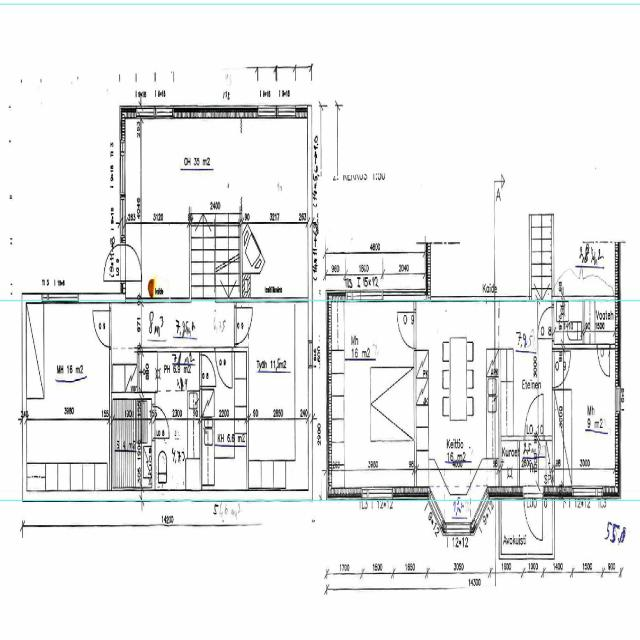door: (524, 487, 542, 540), (119, 244, 142, 280), (525, 395, 543, 441), (104, 244, 125, 281), (215, 347, 232, 389), (94, 310, 112, 348), (398, 312, 417, 348), (552, 351, 570, 388), (234, 308, 252, 344), (152, 406, 169, 438), (537, 307, 554, 339), (200, 354, 216, 386), (597, 344, 610, 376)
